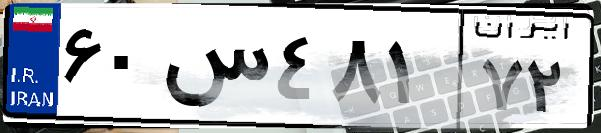0: (110, 28, 158, 98)
1: (385, 28, 445, 110)
2: (525, 38, 570, 115)
4: (270, 28, 330, 110)
6: (57, 26, 110, 100)
7: (475, 38, 525, 113)
8: (330, 28, 385, 110)
س: (158, 20, 270, 120)
